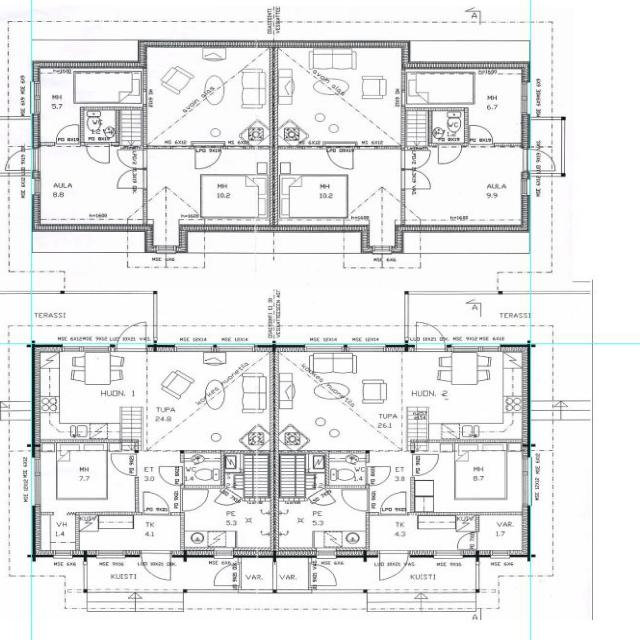door: (141, 550, 171, 582), (117, 321, 146, 352), (416, 321, 445, 352), (380, 550, 408, 581), (5, 148, 40, 170), (306, 486, 336, 511), (522, 149, 555, 171), (213, 488, 242, 512), (326, 146, 353, 171), (109, 454, 139, 476), (410, 454, 440, 476), (308, 564, 338, 586), (212, 564, 241, 586), (380, 492, 406, 516), (195, 146, 221, 170), (180, 489, 209, 510), (341, 490, 369, 511), (144, 491, 168, 515), (86, 142, 110, 165), (438, 143, 462, 166), (56, 123, 79, 146), (120, 150, 146, 169), (120, 169, 146, 188), (402, 150, 428, 169), (402, 170, 428, 189), (366, 466, 391, 485), (470, 125, 492, 146), (159, 466, 184, 484), (456, 532, 478, 549)
